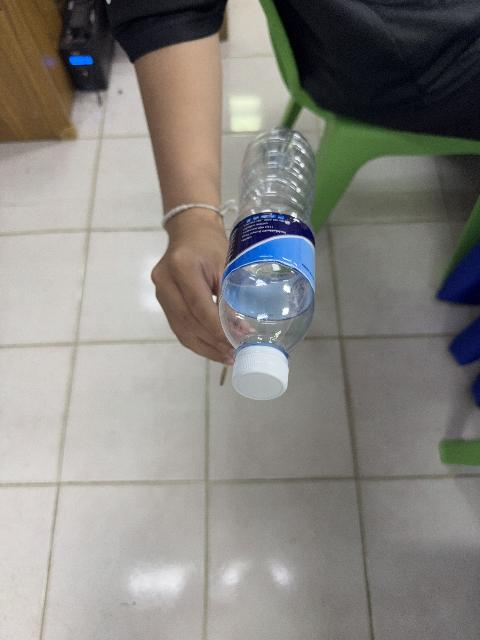bottle: (219, 128, 315, 399)
